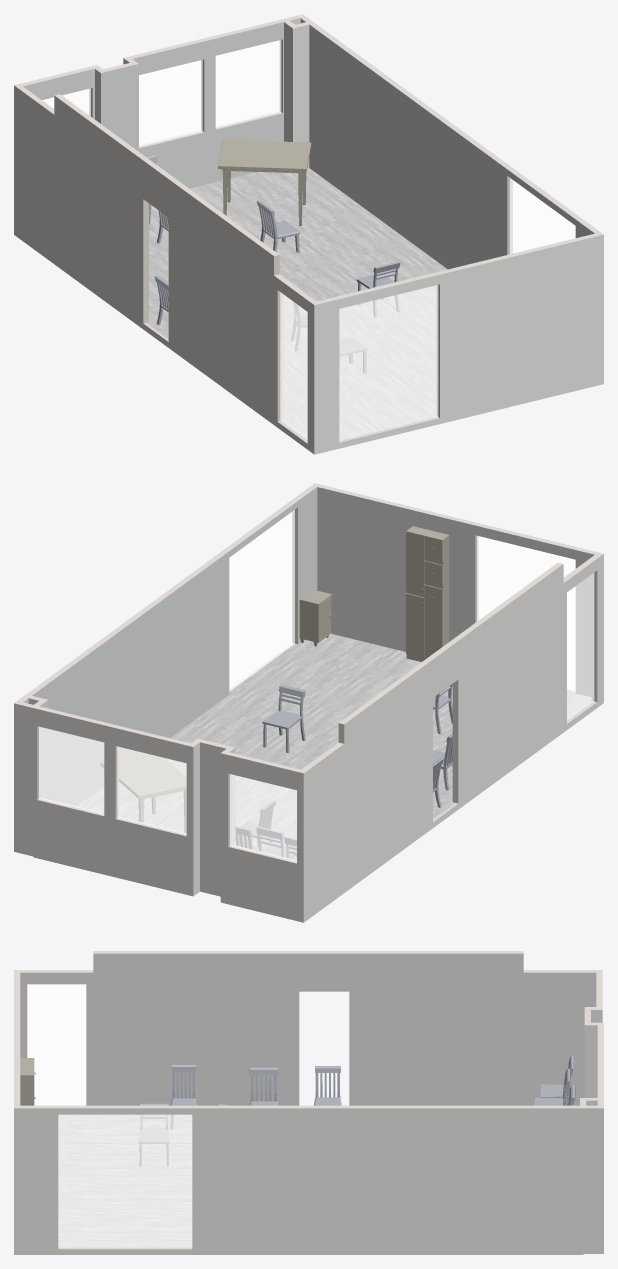
3 views of the same model, one above another, from view 1: azimuth 30°, elevation 25°; view 2: azimuth 150°, elevation 25°; view 3: azimuth 270°, elevation 25° (orthographic). The views are drawn at different scales.
Visible parts, largest first — view 1: wall_9, floor_Dining_Room, wall_6, wall_18, door_1, door_4, wall_12, window_1, window_4, window_2, window_5, wall_31 (+14 smaller); view 2: wall_9, wall_18, floor_Dining_Room, wall_24, wall_0, door_0, door_3, wall_1, storage_cabinet_tall20, window_2, window_5, window_0 (+20 smaller); view 3: wall_30, wall_3, door_0, door_3, floor_Dining_Room, door_2, door_5, wall_5, wall_19, wall_31, wall_26, wall_25 (+8 smaller).
Part boxes in pixels (box(x1,y1,x2,y2)): wall_9: box(14, 85, 314, 454); floor_Dining_Room: box(146, 168, 447, 440); wall_6: box(314, 234, 603, 454); wall_18: box(309, 24, 594, 269); door_1: box(339, 285, 437, 440); door_4: box(339, 285, 437, 440); wall_12: box(132, 22, 283, 188); window_1: box(216, 40, 280, 127); window_4: box(216, 40, 280, 127); window_2: box(139, 60, 202, 146); window_5: box(139, 60, 202, 146); wall_31: box(14, 85, 316, 443); wall_9: box(303, 554, 603, 922); wall_18: box(32, 487, 317, 805); floor_Dining_Room: box(77, 633, 593, 858); wall_24: box(317, 487, 594, 696); wall_0: box(33, 708, 193, 896); door_0: box(229, 510, 294, 691); door_3: box(229, 510, 294, 690); wall_1: box(220, 753, 303, 922); storage_cabinet_tall20: box(406, 526, 449, 661); window_2: box(117, 747, 186, 834); window_5: box(117, 747, 186, 833); window_0: box(230, 774, 296, 861); wall_30: box(20, 953, 596, 1105); wall_3: box(14, 1108, 583, 1254); door_0: box(58, 1115, 191, 1247); door_3: box(58, 1115, 191, 1247); floor_Dining_Room: box(58, 1115, 191, 1247); door_2: box(27, 984, 85, 1105); door_5: box(27, 984, 85, 1105); wall_5: box(583, 1108, 603, 1253); wall_19: box(15, 1105, 582, 1249); wall_31: box(14, 951, 602, 972); wall_26: box(584, 1025, 597, 1097); wall_25: box(14, 970, 20, 1108).
Size of the model in its own units: 5.1 by 2.84 by 9.19.
Materials: 43 (1 with a texture image).
